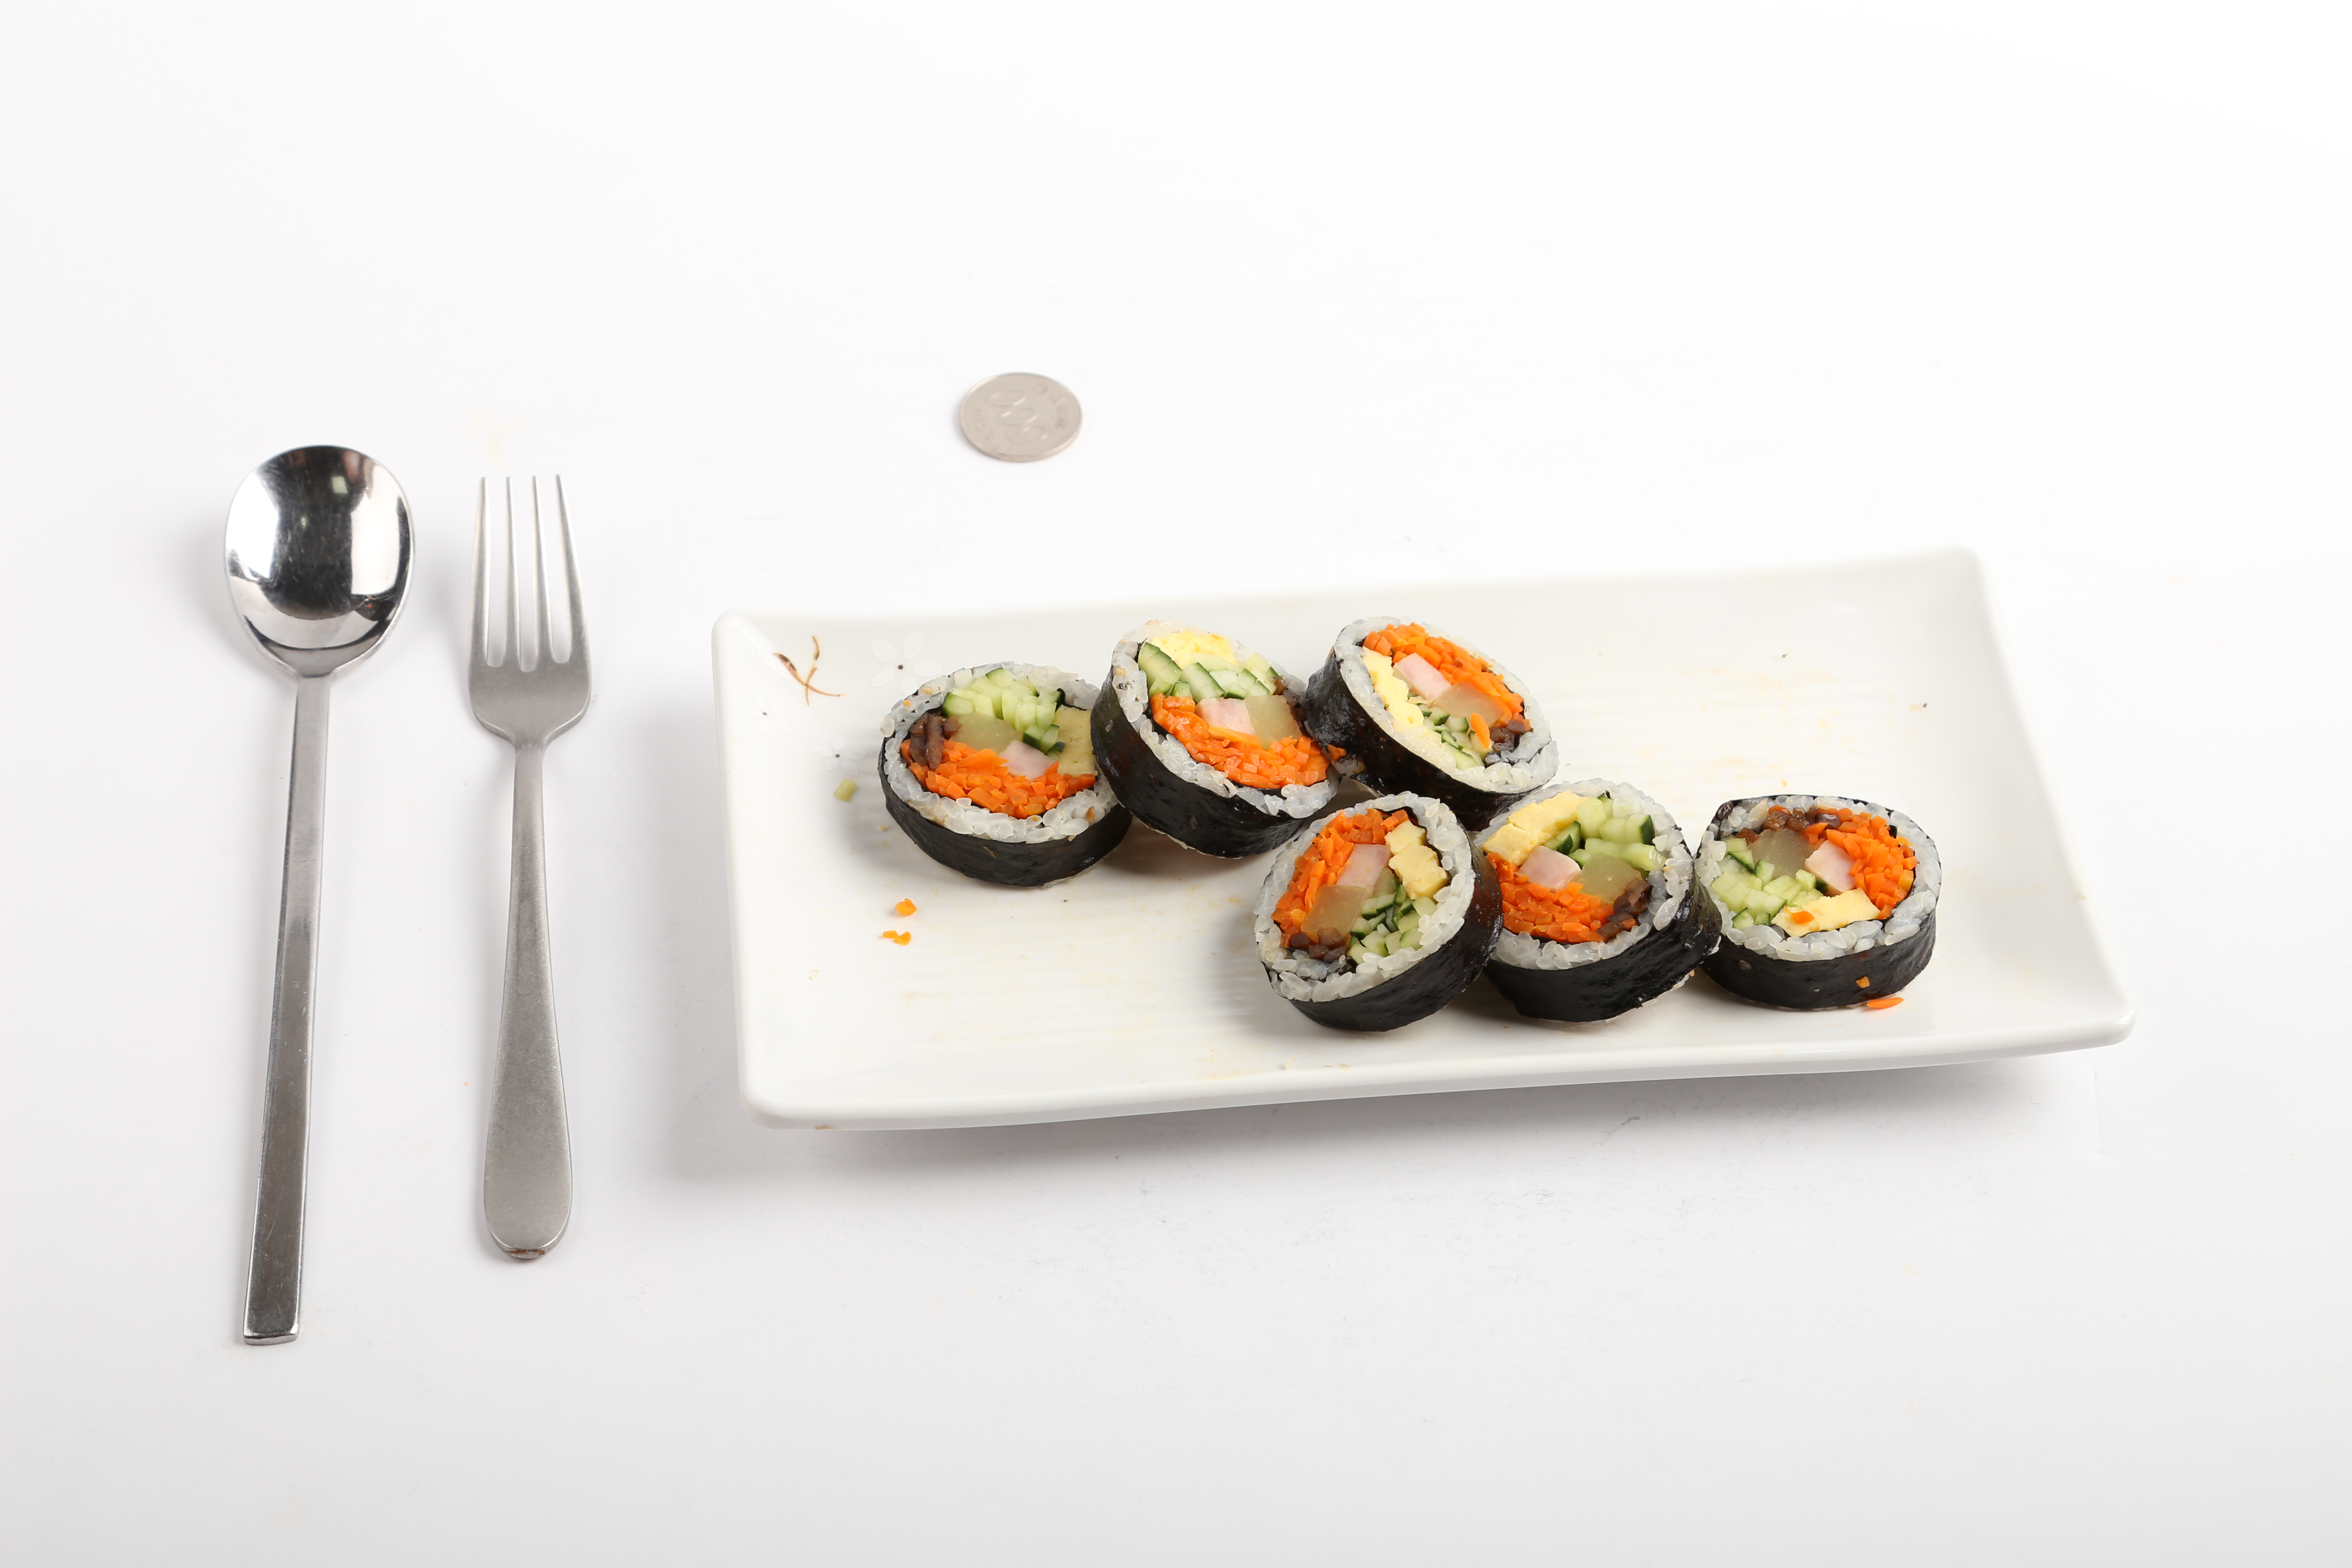dish: (709, 542, 2145, 1132)
ref_coin: (943, 359, 1090, 467)
ref_fork: (465, 469, 597, 800)
ref_spoon: (220, 437, 413, 754)
김밥: (878, 607, 1948, 1039)
